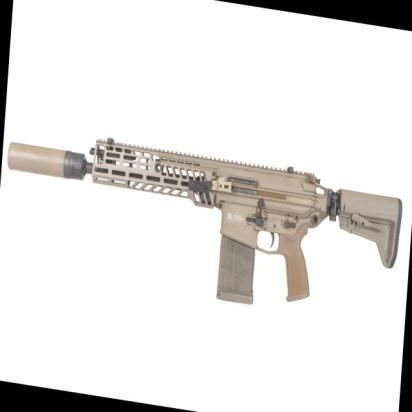Gun: (7, 133, 403, 310)
